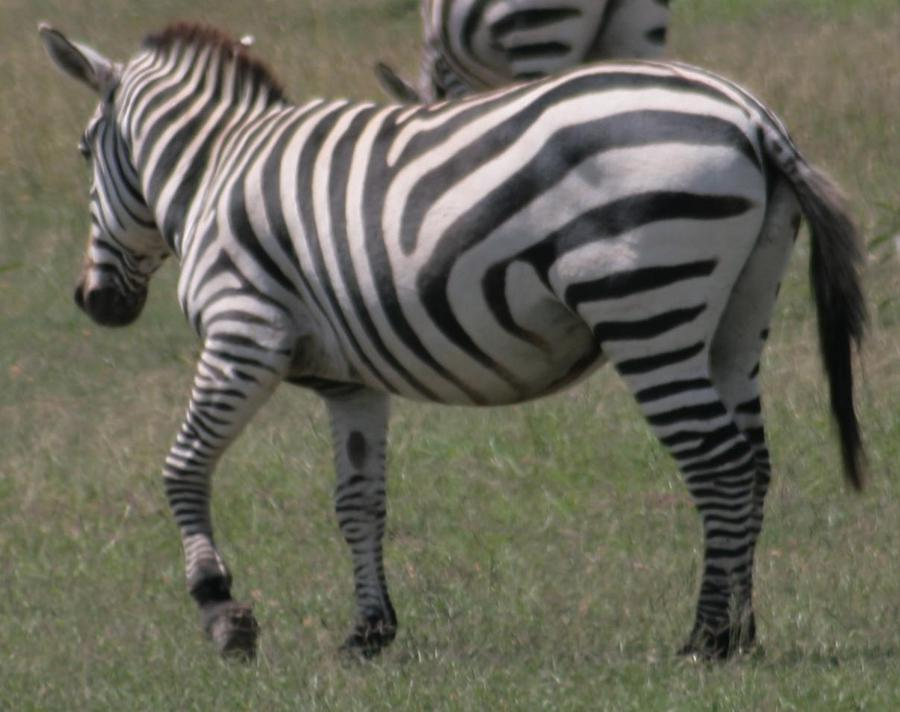zebra_plains: (153, 37, 770, 418)
